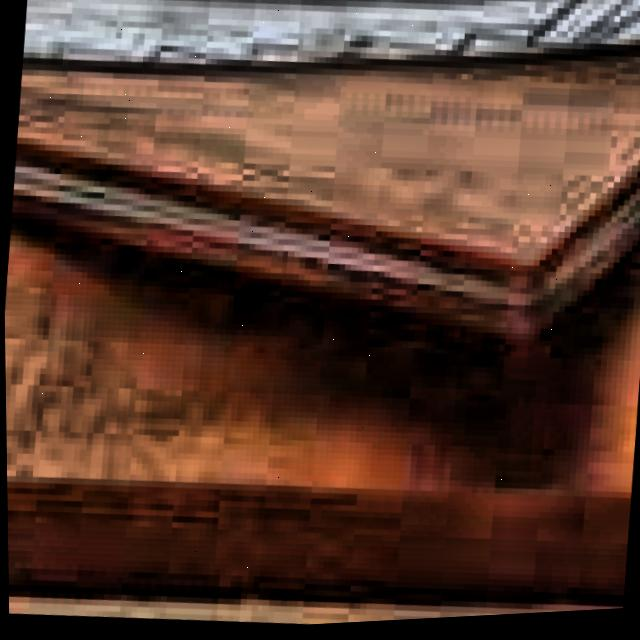paper: (11, 0, 640, 347)
